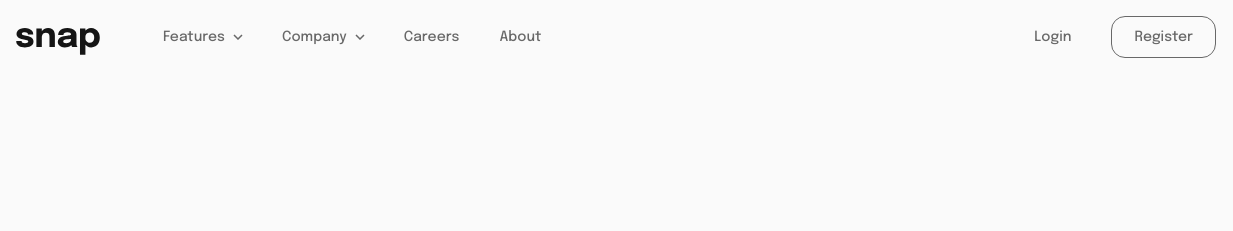
Test case: SiteHeader › closes again on a second click
Step 1. Click the button "Company" → click(323, 37), box [282, 29, 364, 45]
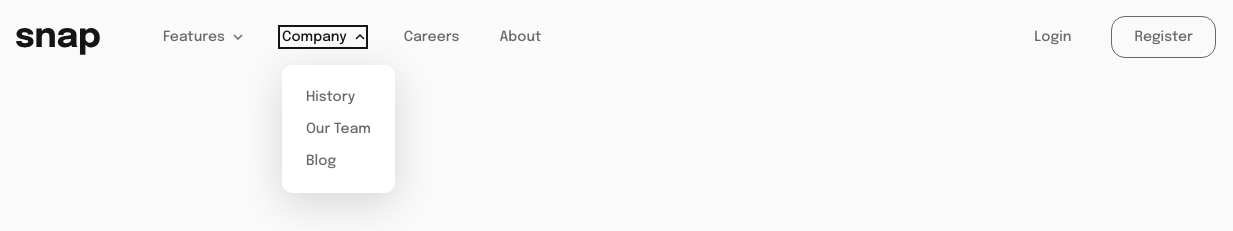
Step 2. Click the button "Company" → click(323, 37), box [282, 29, 364, 45]
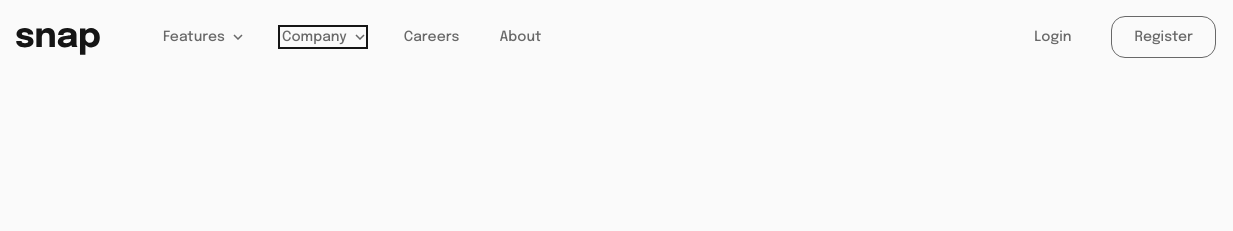
Check: the button "Company" is collapsed, box [282, 29, 364, 45]
